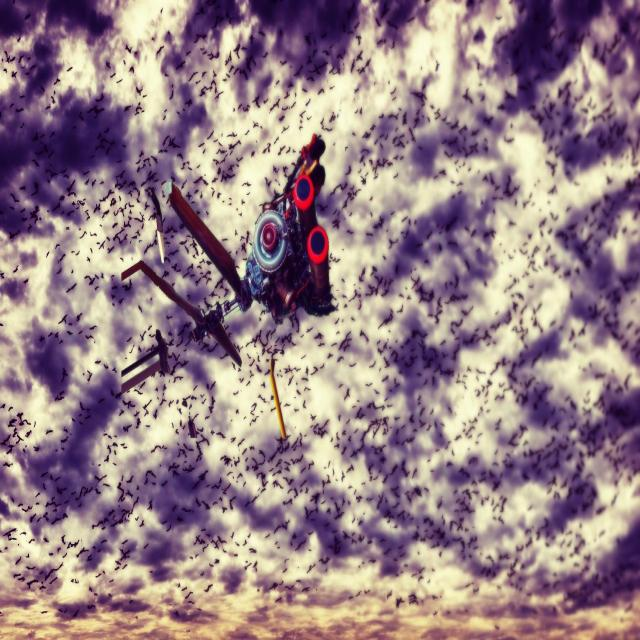airplane: (121, 132, 331, 440)
